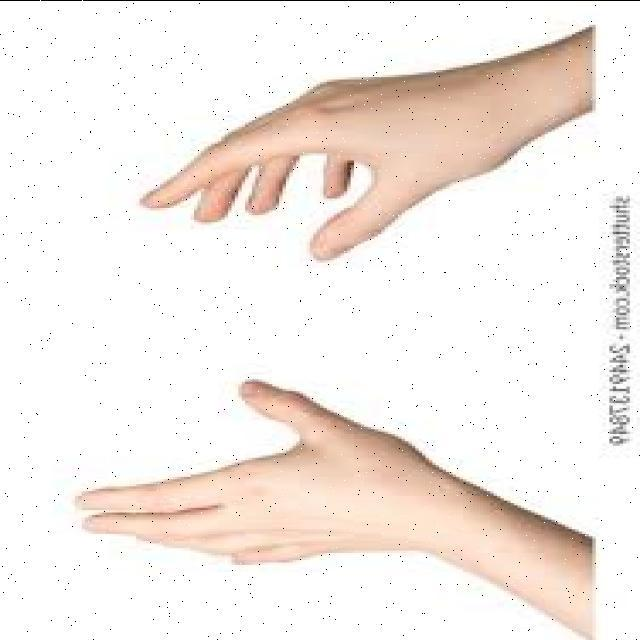no_apron: (64, 374, 482, 576), (126, 51, 514, 254)
